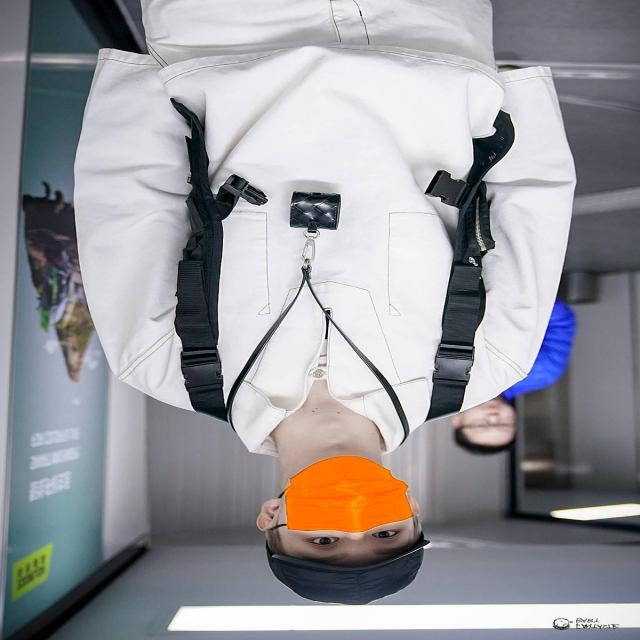Mask: (266, 452, 418, 536)
